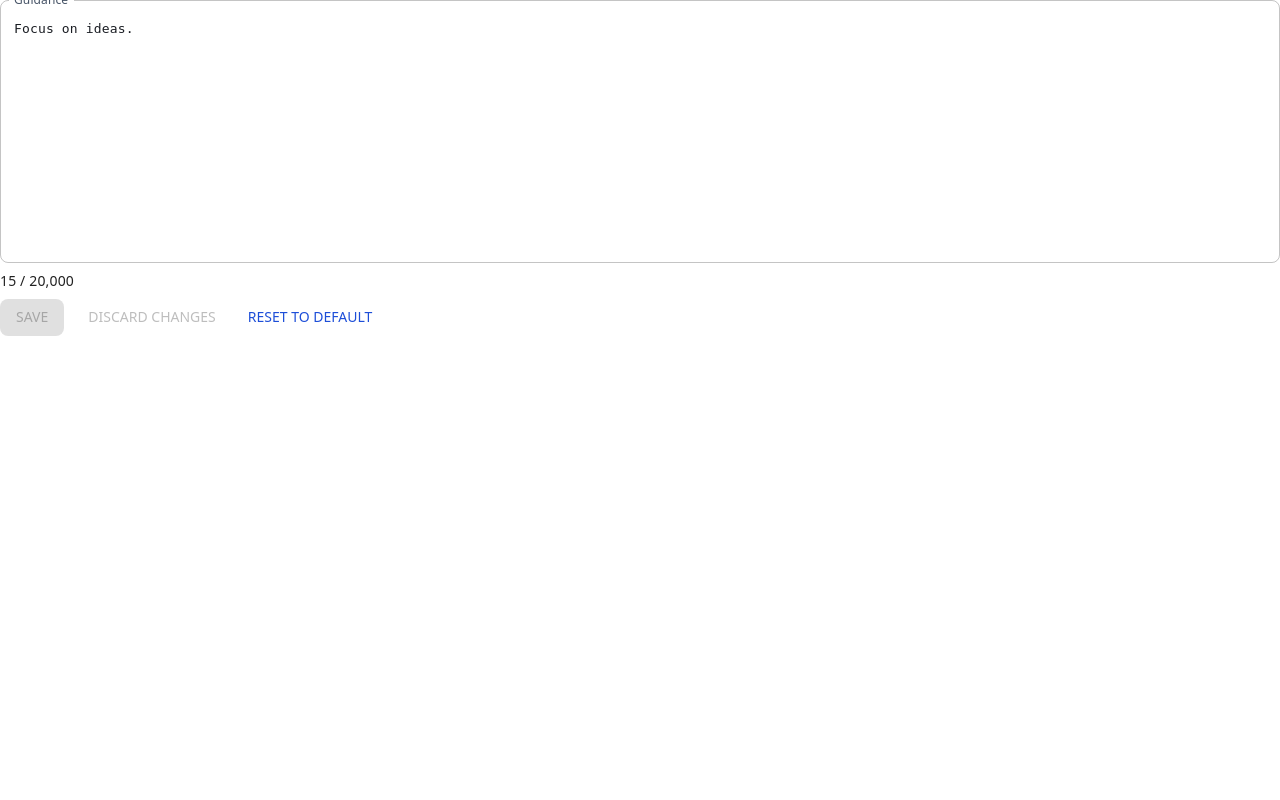
PromptEditor › does not reset when the confirmation is cancelled
Step 1. Click the button "Reset to default" → click(310, 317), box [240,299,380,336]
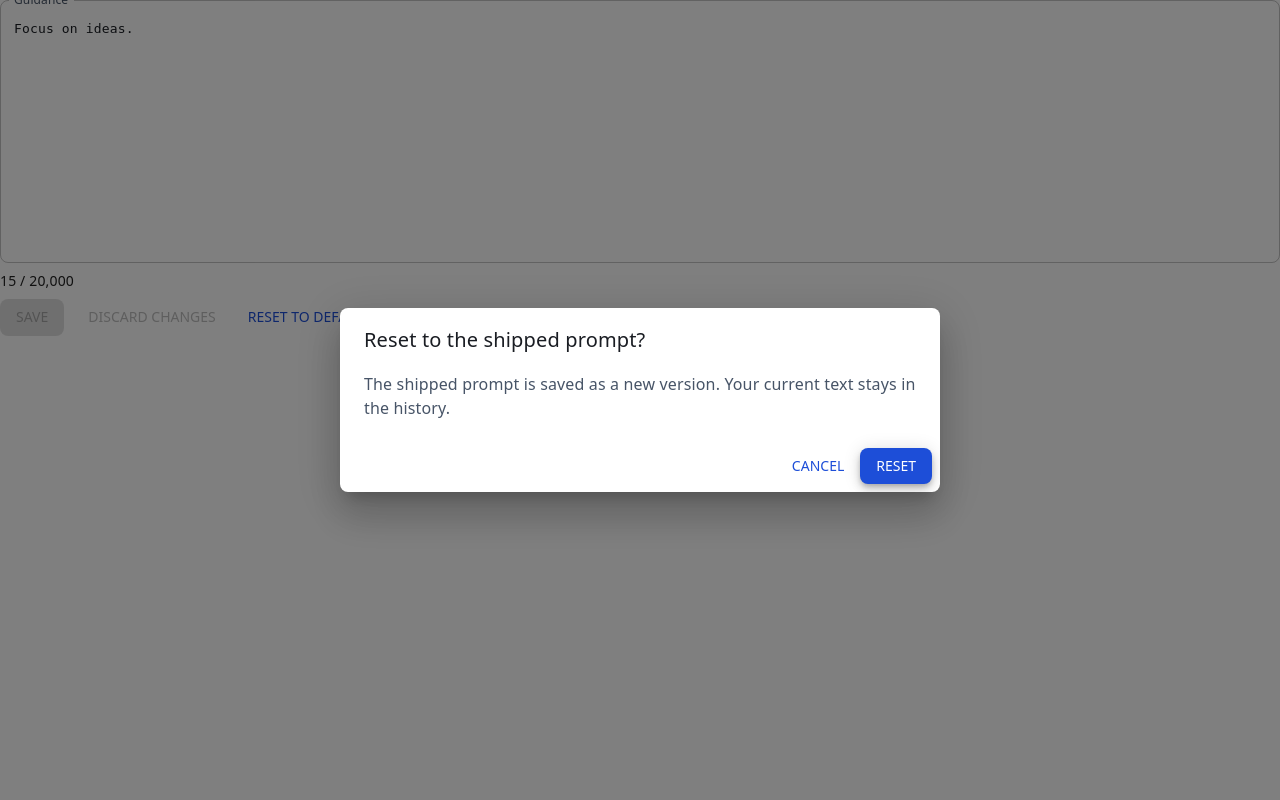
Step 2. Click the button "Cancel" → click(818, 466), box [784,448,852,484]
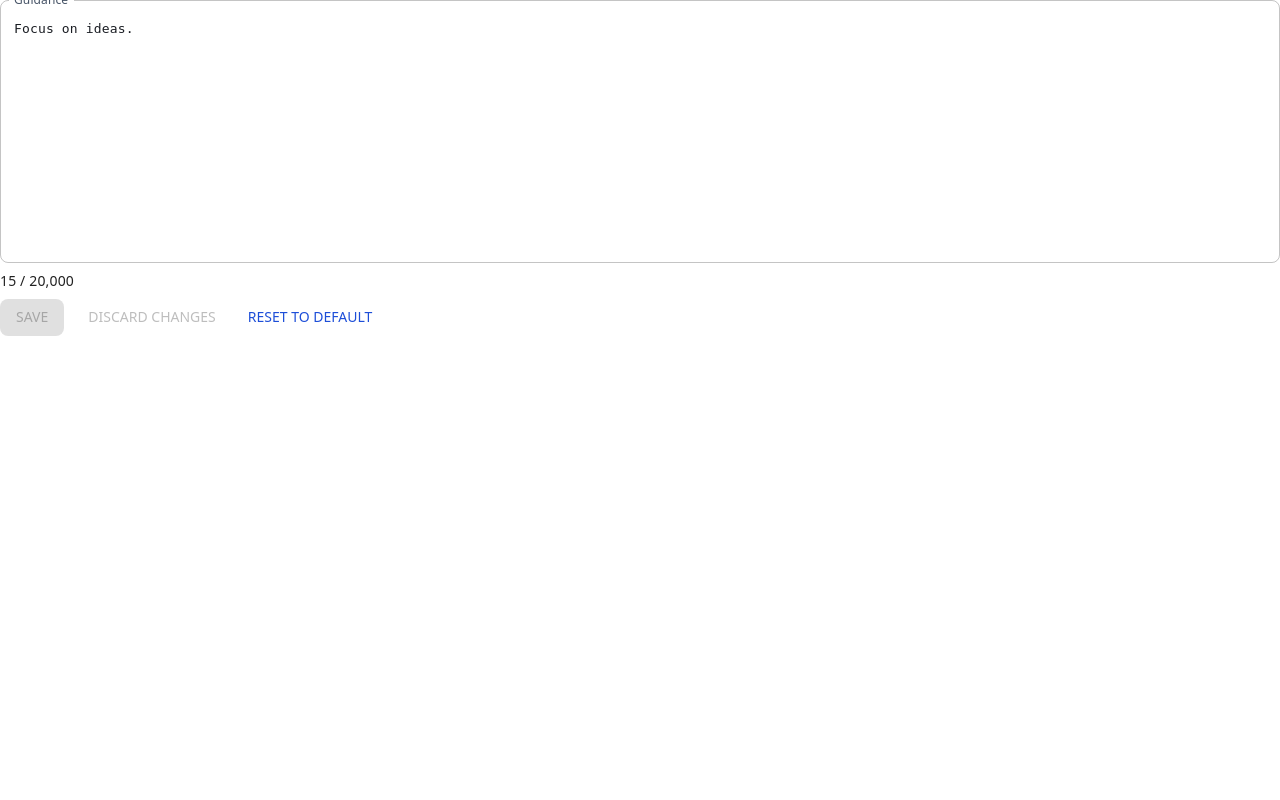
Check: the dialog is gone
